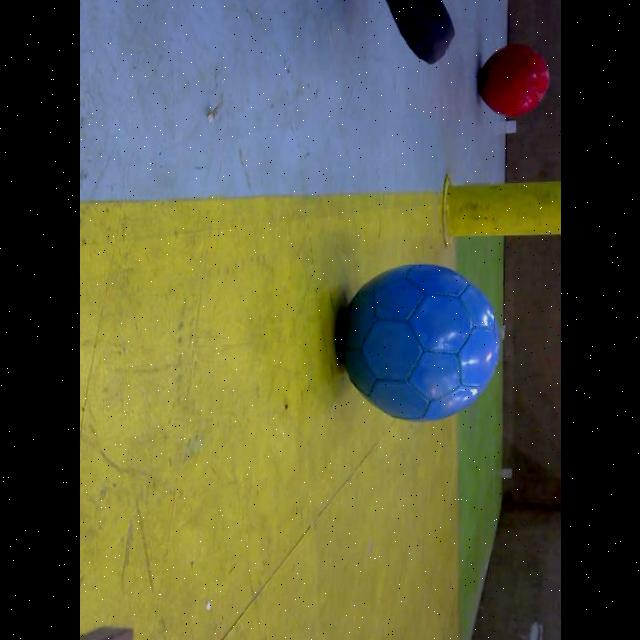B: (336, 260, 507, 428)
R: (474, 43, 554, 117)
